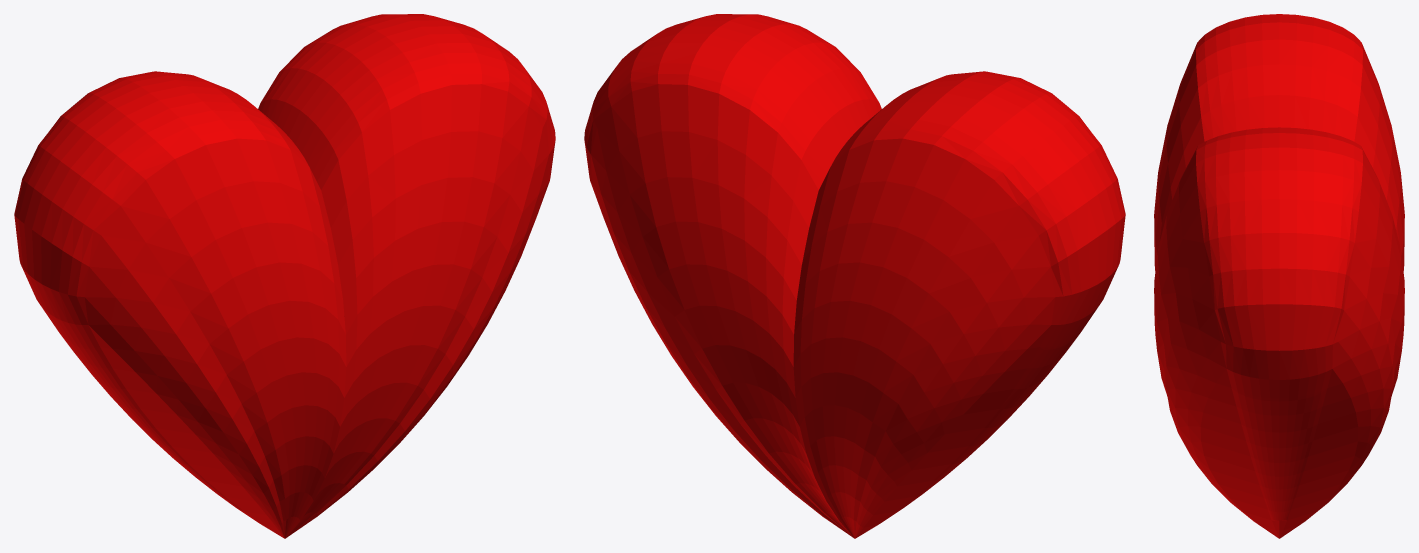
The model's file is Heart2.dae.
3 renders of one model, left to right at view 1: azimuth 30°, elevation 25°; view 2: azimuth 150°, elevation 25°; view 3: azimuth 270°, elevation 25°, orthographic. The views are drawn at different scales.
Parts seen in each view (by area): view 1: group_2, group_1; view 2: group_2, group_1; view 3: group_1, group_2.
Part boxes in pixels (box(x1,y1,x2,y2)): group_2: box(14, 71, 346, 538); group_1: box(258, 14, 555, 538); group_2: box(793, 71, 1125, 538); group_1: box(584, 14, 881, 538); group_1: box(1154, 127, 1404, 538); group_2: box(1154, 14, 1404, 270).
Bounding box in the file's own units: 44.39 × 20.1 × 40.16.
